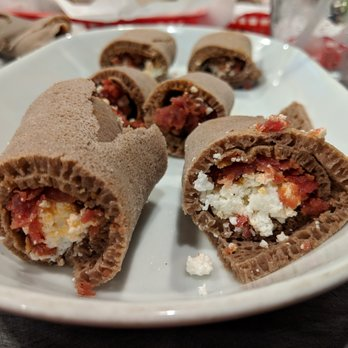ground_beef: (275, 162, 338, 216), (159, 97, 197, 137), (8, 189, 37, 236)
